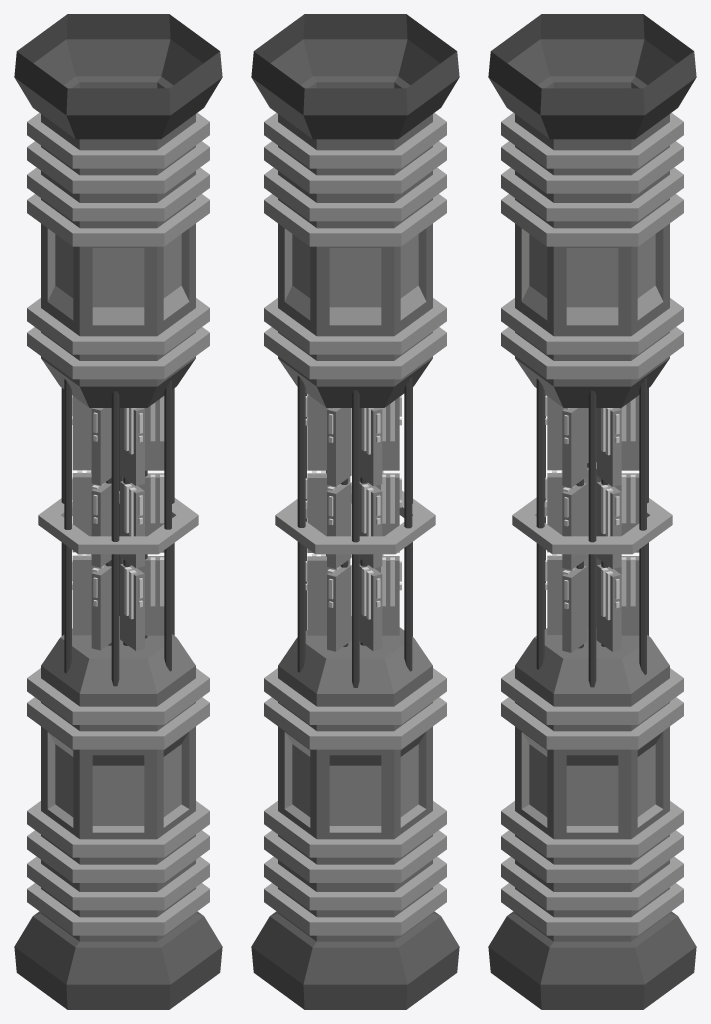
The model's file is computer_large_A.FBX.
3 views of the same model, side by side, from view 1: azimuth 30°, elevation 25°; view 2: azimuth 150°, elevation 25°; view 3: azimuth 270°, elevation 25° (orthographic).
Parts seen in each view (by area): view 1: computer_large_A, computer_large_A_glow; view 2: computer_large_A, computer_large_A_glow; view 3: computer_large_A, computer_large_A_glow.
Boxes of the visible parts, x1,y1,x2,y2 form: computer_large_A: (14,14,222,1009); computer_large_A_glow: (72,395,164,619); computer_large_A: (251,14,459,1009); computer_large_A_glow: (305,396,401,619); computer_large_A: (488,14,696,1009); computer_large_A_glow: (545,395,635,620).
Size of the model in its own units: 52.18 by 294 by 60.25.
